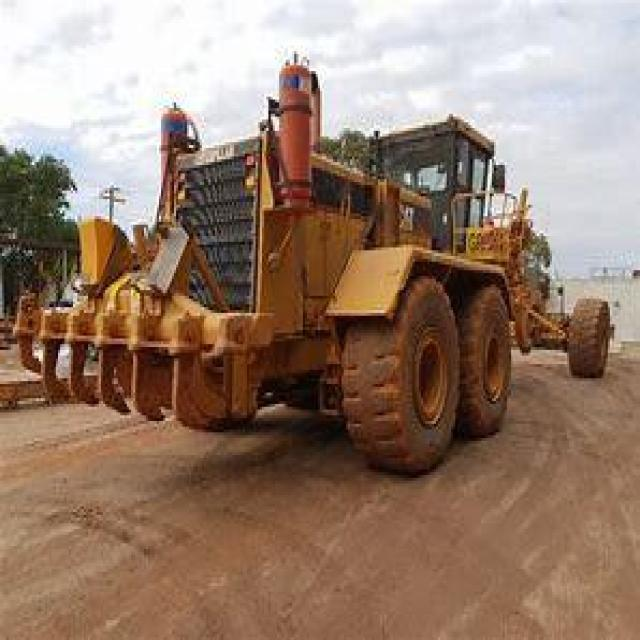buldozerpayloadergrader: (19, 46, 623, 480)
